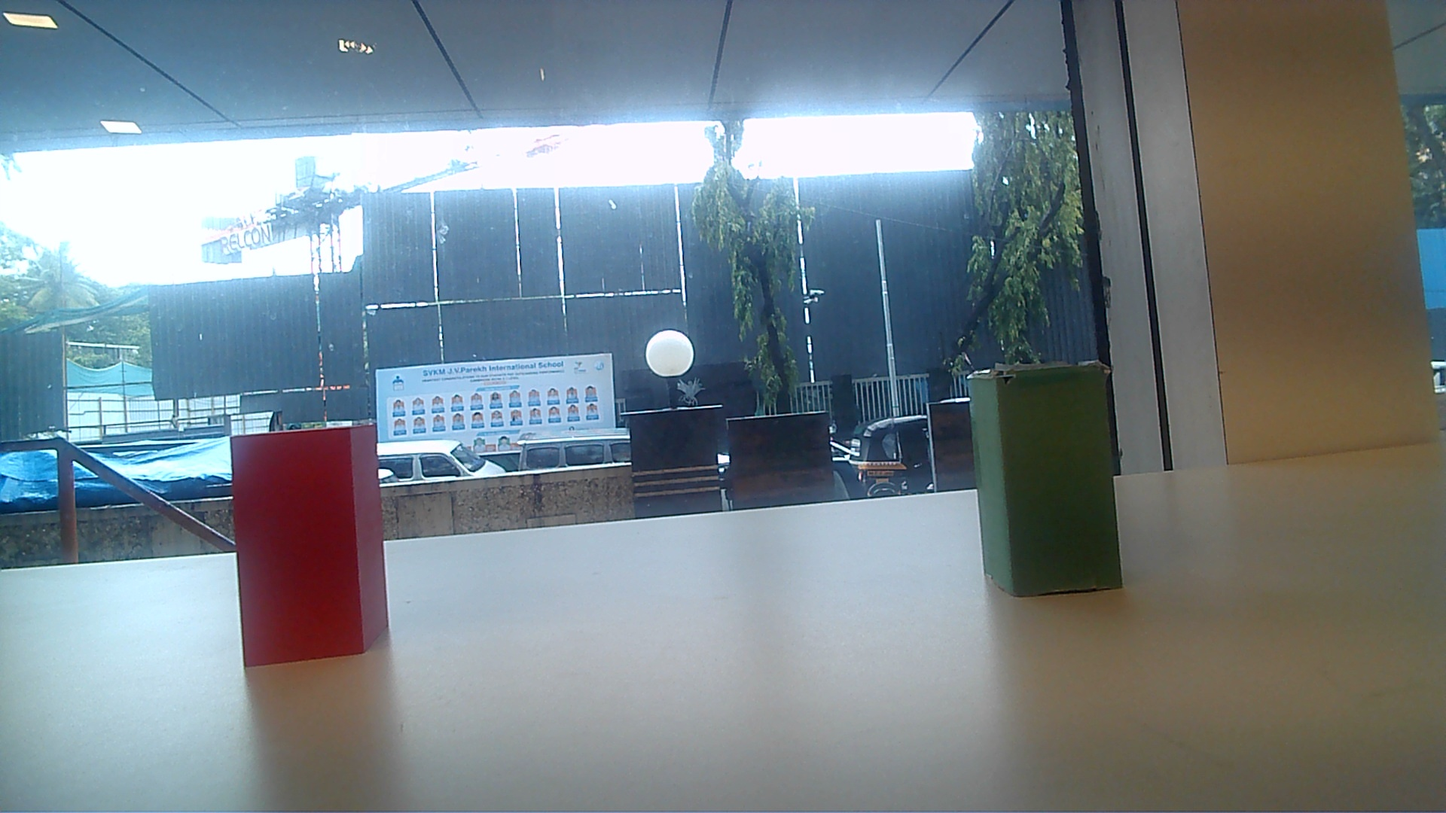green: (982, 365, 1115, 598)
